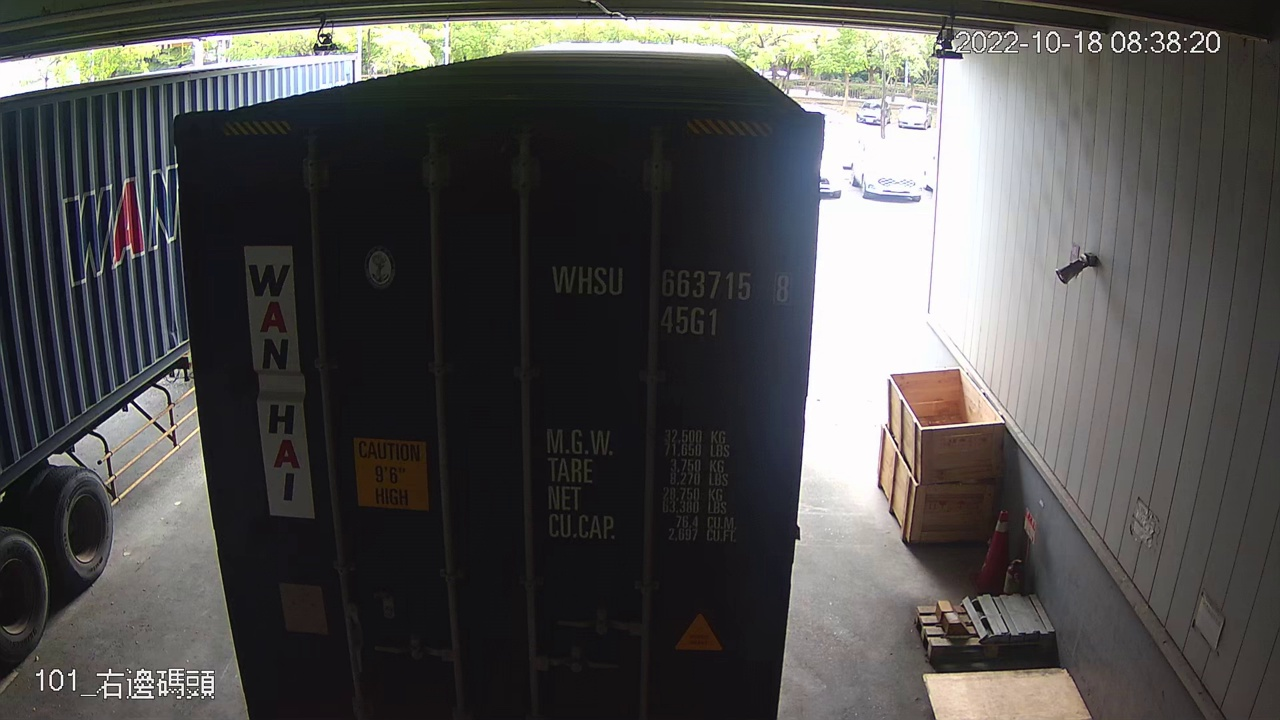container: (542, 249, 798, 341)
